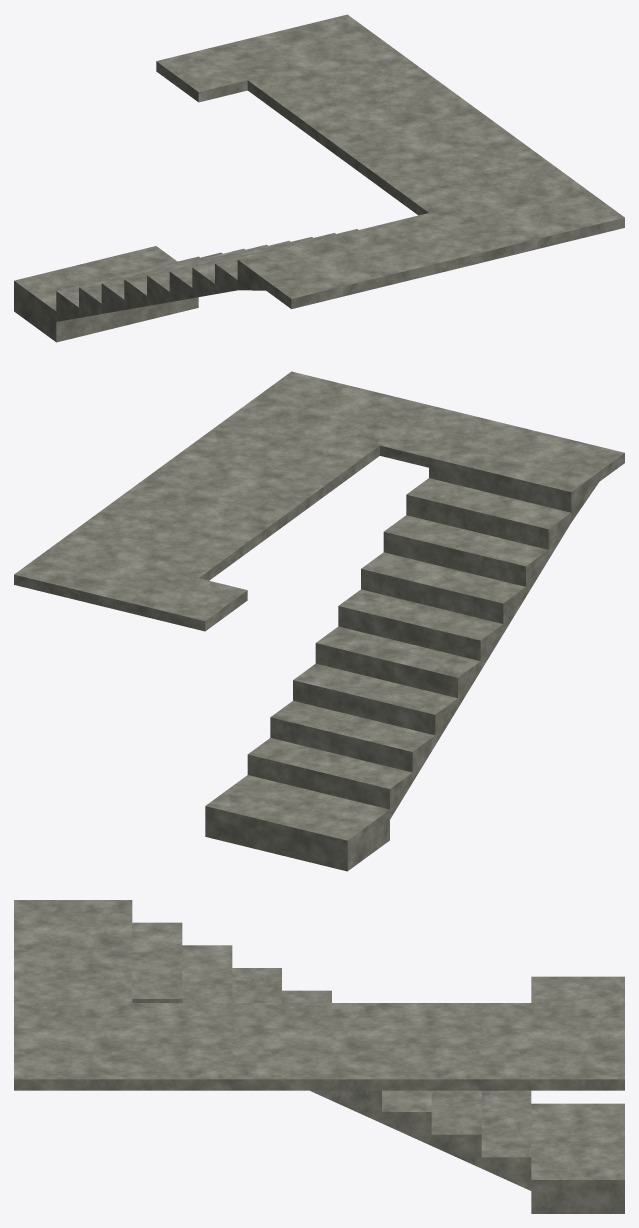
The model's file is Stair.obj.
3 views of the same model, one above another, from view 1: azimuth 30°, elevation 25°; view 2: azimuth 150°, elevation 25°; view 3: azimuth 270°, elevation 25° (orthographic). The views are drawn at different scales.
Visible parts, largest first — view 1: SideStairsPart; view 2: SideStairsPart; view 3: SideStairsPart.
Part boxes in pixels (x1,y1,x2,y2): SideStairsPart: (14, 14, 624, 342); SideStairsPart: (14, 371, 624, 871); SideStairsPart: (14, 900, 624, 1213).
Bounding box in the file's own units: 6.8 × 4.2 × 9.8.
